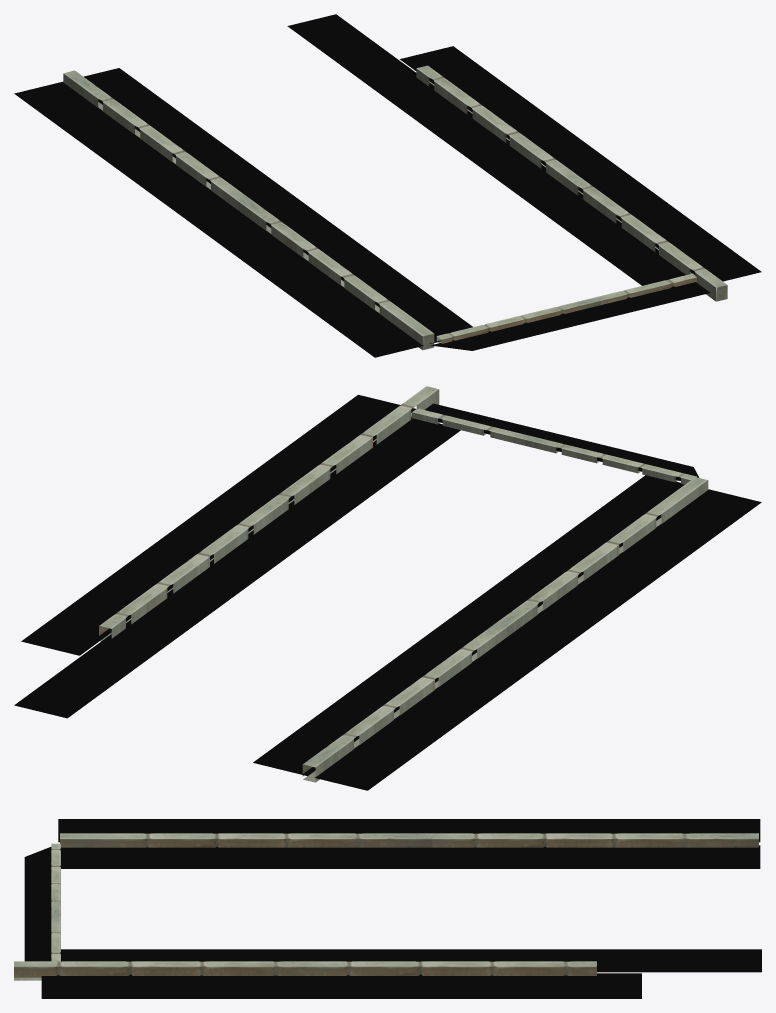
3 renders of one model, top to bottom at view 1: azimuth 30°, elevation 25°; view 2: azimuth 150°, elevation 25°; view 3: azimuth 270°, elevation 25°, orthographic. The views are drawn at different scales.
Visible parts, largest first — view 1: lu_yingying, lu1; view 2: lu_yingying, lu1; view 3: lu_yingying, lu1.
Boxes of the visible parts, x1=… form: lu_yingying: x1=14, y1=14, x2=761, y2=357; lu1: x1=63, y1=65, x2=727, y2=350; lu_yingying: x1=14, y1=394, x2=761, y2=790; lu1: x1=99, y1=386, x2=708, y2=782; lu_yingying: x1=24, y1=819, x2=761, y2=998; lu1: x1=14, y1=833, x2=758, y2=980.
Size of the model in its own units: 5.98 by 0.2129 by 10.53.
